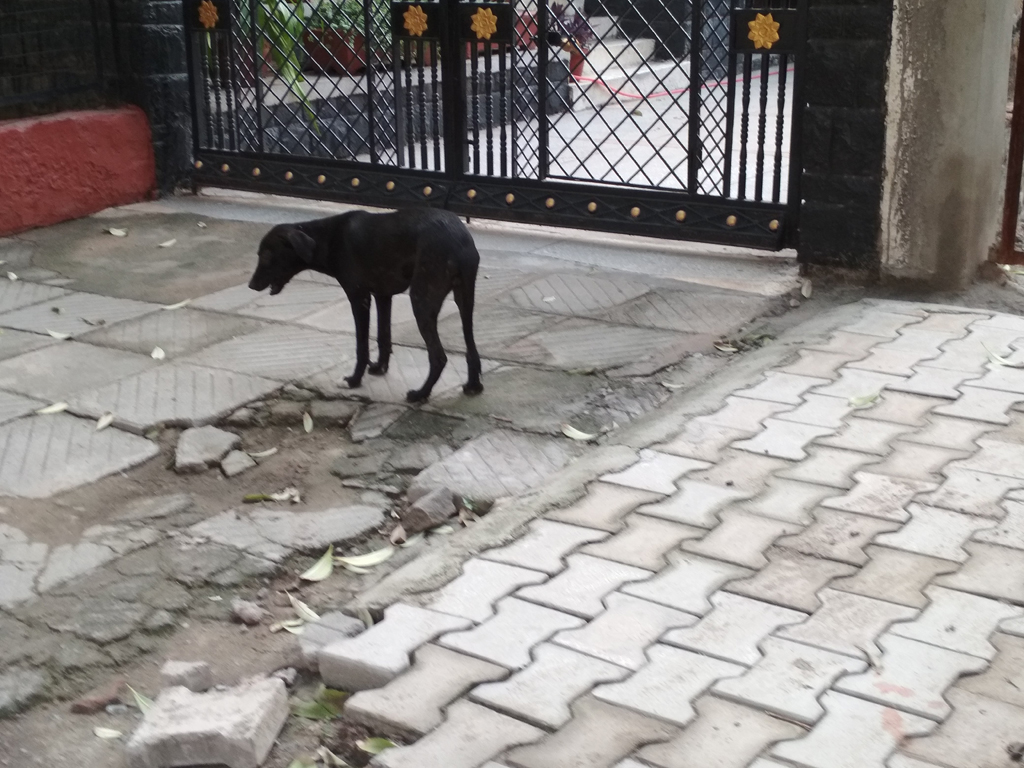dog: (249, 208, 483, 402)
